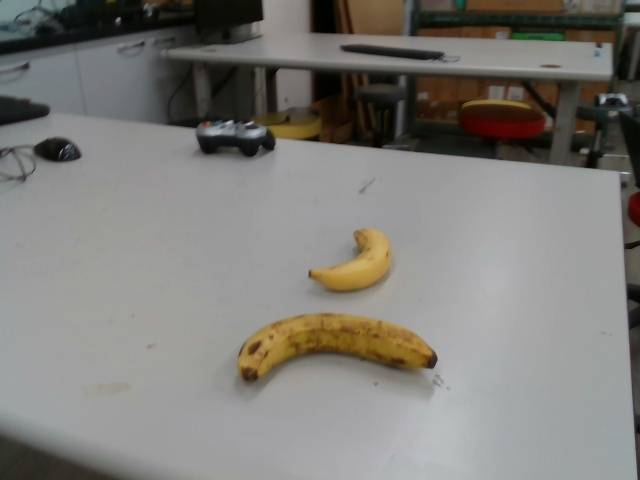banana: (236, 312, 436, 385), (307, 226, 394, 296)
